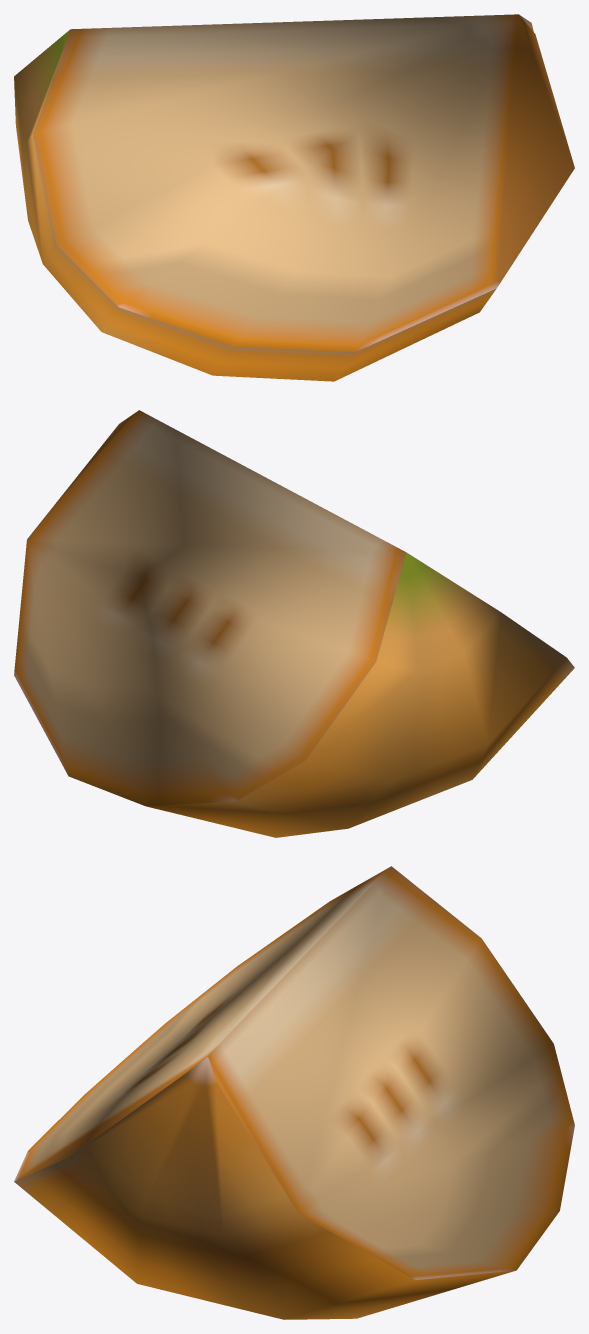
File: pumkin_half.fbx
3 renders of one model, top to bottom at view 1: azimuth 30°, elevation 25°; view 2: azimuth 150°, elevation 25°; view 3: azimuth 270°, elevation 25°, orthographic. The views are drawn at different scales.
Parts seen in each view (by area): view 1: Pumkin; view 2: Pumkin; view 3: Pumkin.
Part boxes in pixels (bbox=[...]): Pumkin: bbox=[14, 14, 574, 381]; Pumkin: bbox=[14, 410, 574, 837]; Pumkin: bbox=[14, 866, 574, 1319].
Size of the model in its own units: 129 by 77.79 by 117.
1 material, 1 textured.
